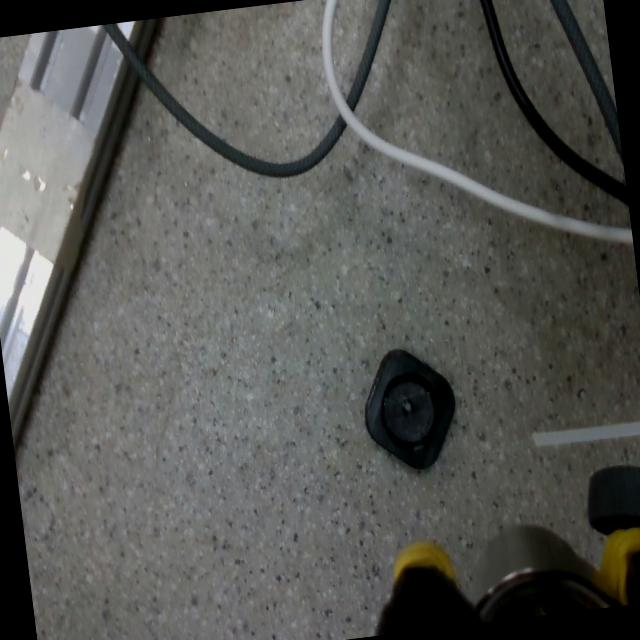cell: (356, 342, 464, 476)
